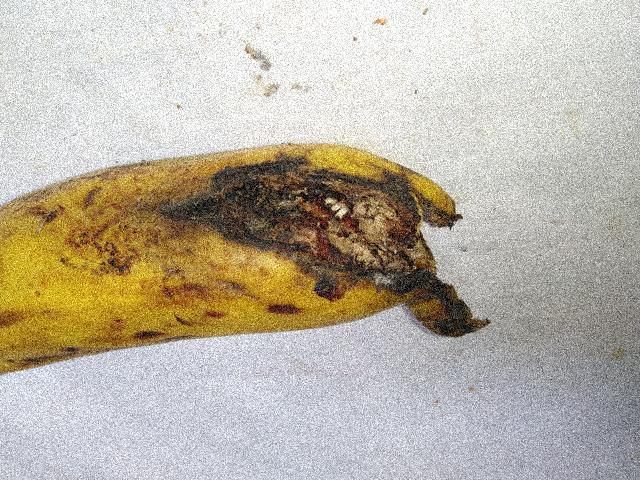rotten: (164, 120, 502, 357)
